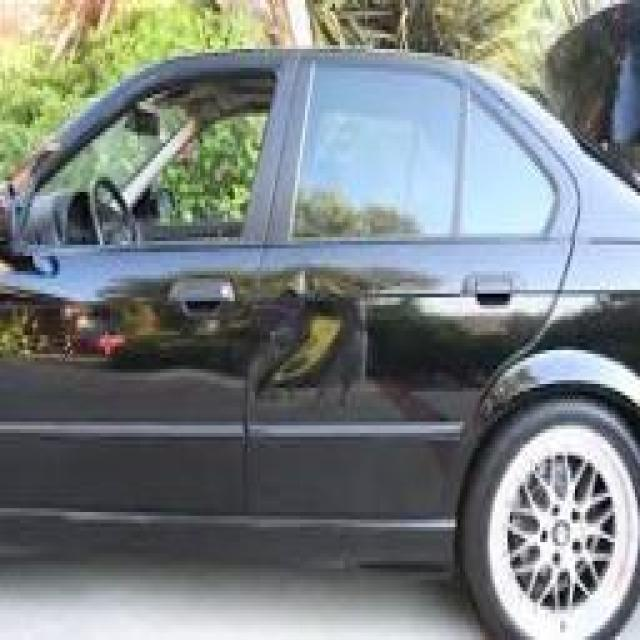Door: (228, 247, 403, 503)
